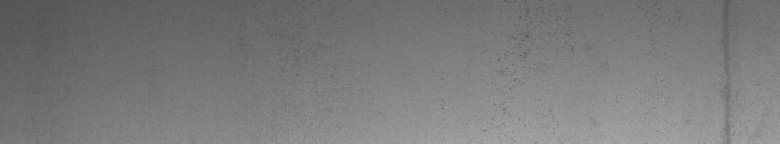ib: (497, 12, 574, 116)
